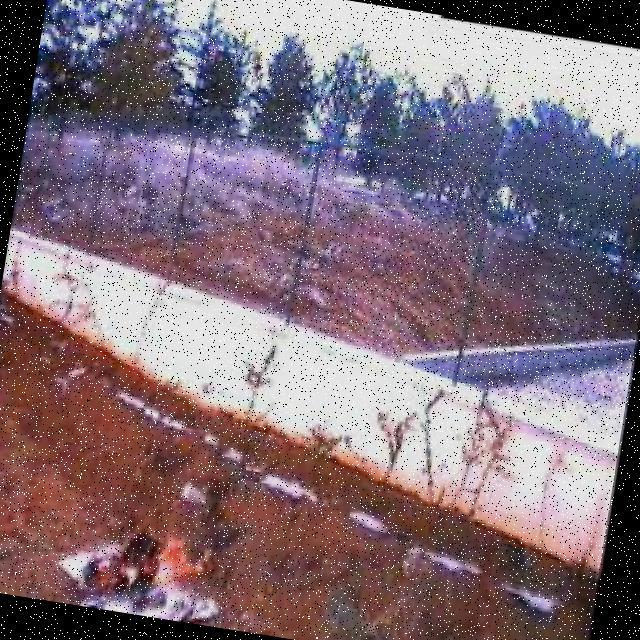Fire: (75, 513, 221, 623)
